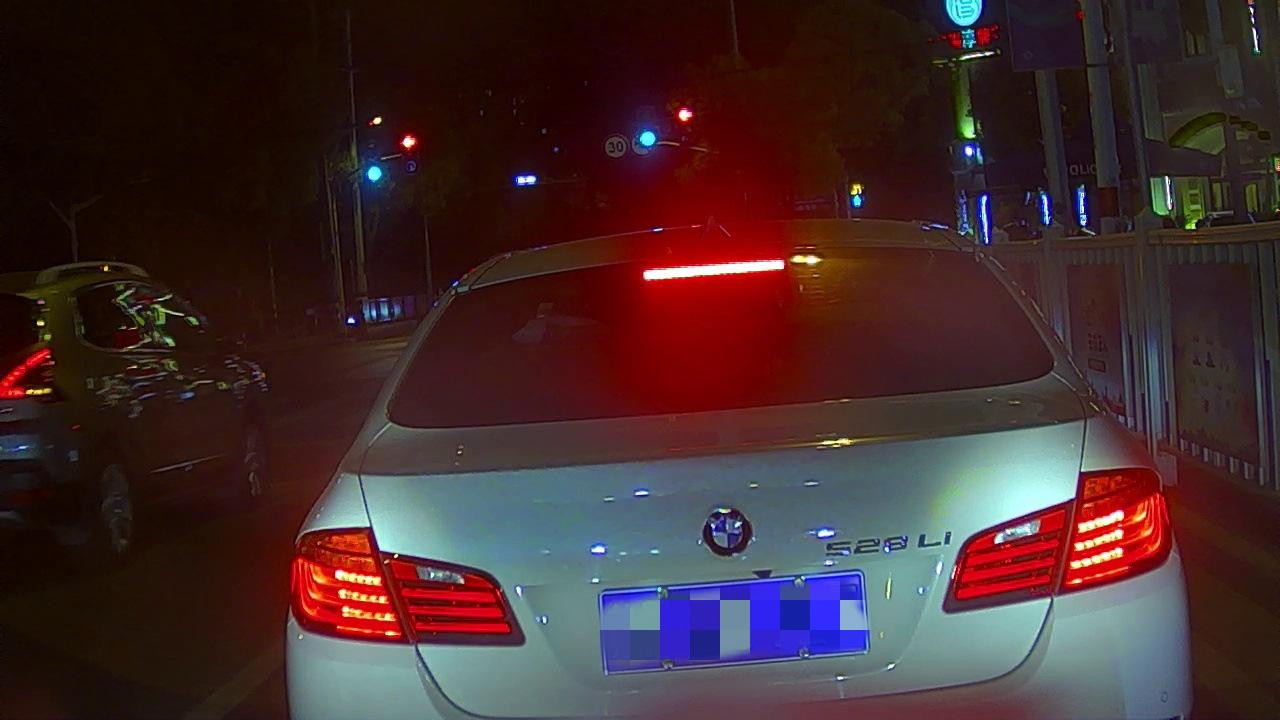traffic_light: (672, 102, 697, 127), (362, 161, 386, 186), (397, 129, 421, 154), (636, 125, 659, 151)
